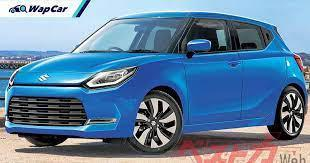Hatchback: (5, 11, 309, 150)
